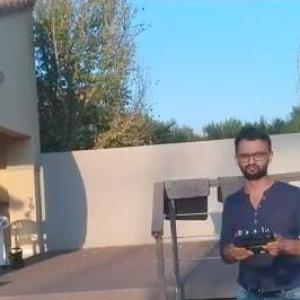follow: (215, 118, 300, 299)
